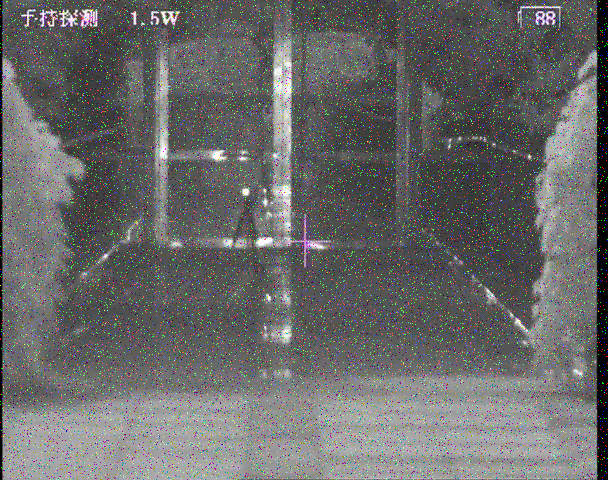my: (240, 187, 251, 197)
